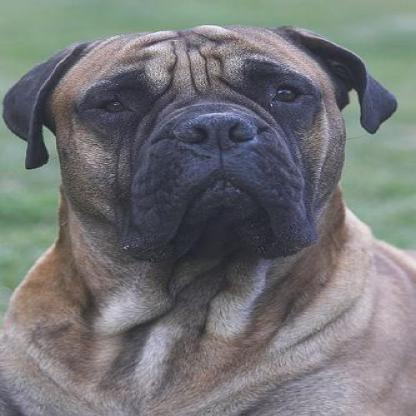bull_mastiff: (0, 20, 412, 413)
